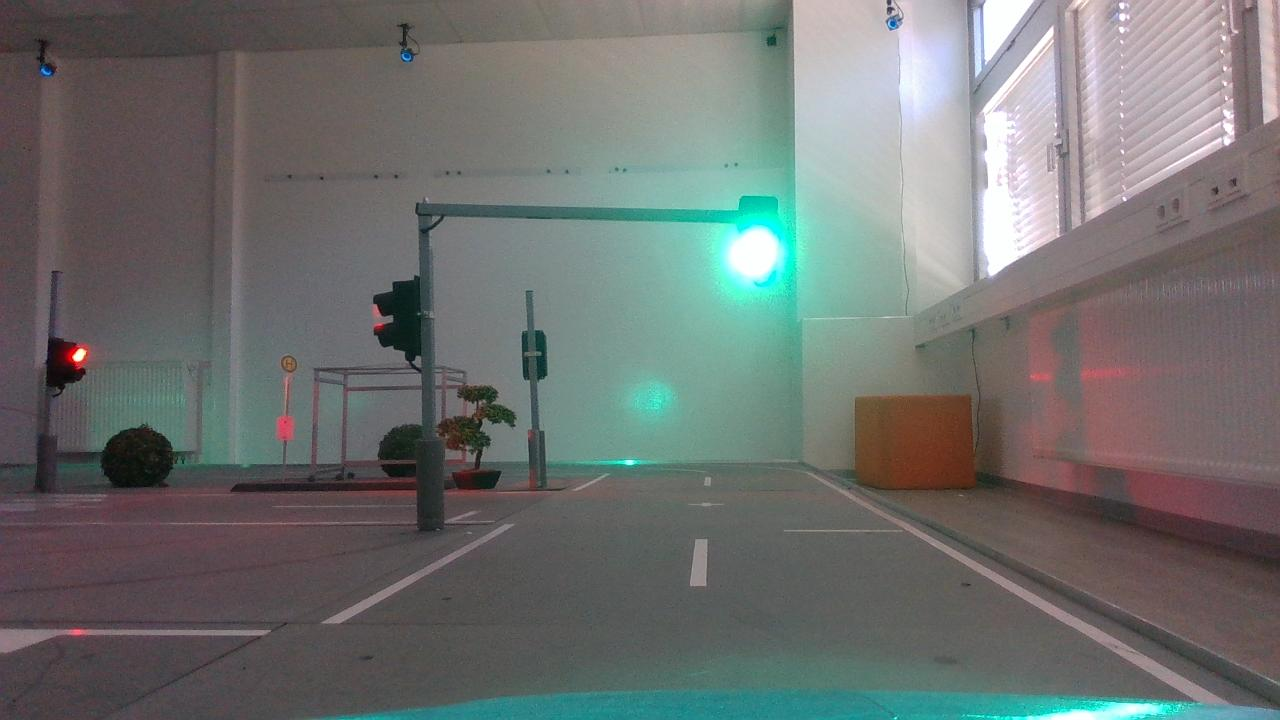traffic_light_green: (718, 184, 791, 311)
